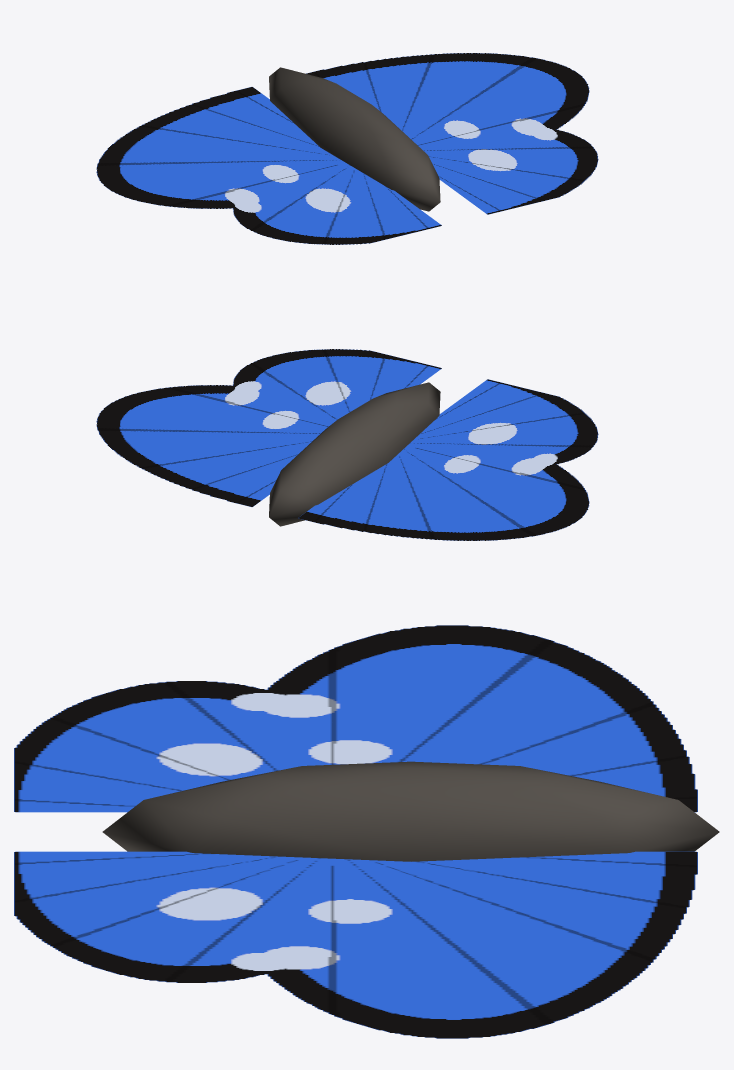
File: Butterfly_Blue.glb
3 views of the same model, one above another, from view 1: azimuth 30°, elevation 25°; view 2: azimuth 150°, elevation 25°; view 3: azimuth 270°, elevation 25° (orthographic). The views are drawn at different scales.
Parts seen in each view (by area): view 1: WingL, WingR, Butterfly_Blue; view 2: WingL, WingR, Butterfly_Blue; view 3: WingR, WingL, Butterfly_Blue.
Boxes of the visible parts, x1=… form: WingL: x1=96, y1=87, x2=441, y2=244; WingR: x1=306, y1=53, x2=598, y2=214; Butterfly_Blue: x1=269, y1=67, x2=440, y2=211; WingL: x1=298, y1=379, x2=598, y2=540; WingR: x1=96, y1=349, x2=441, y2=506; Butterfly_Blue: x1=269, y1=382, x2=440, y2=526; WingR: x1=14, y1=851, x2=697, y2=1038; WingL: x1=14, y1=625, x2=697, y2=812; Butterfly_Blue: x1=102, y1=761, x2=719, y2=861.
Size of the model in its own units: 0.12 by 0.016 by 0.08.
2 materials, 1 textured.
